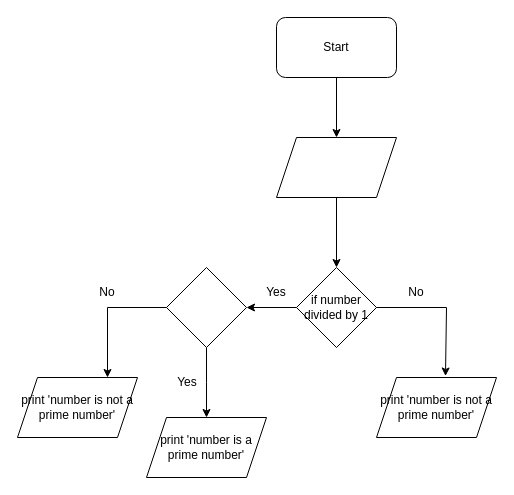
Image size: 514x495. Some labels were removed from this diagram. The shapes that lost their labels are listed below. From the top down, each one's centre as x and y in pixels, then its label:
At [336,167]: "number=input()".
At [206,307]: "if number divided by number".
